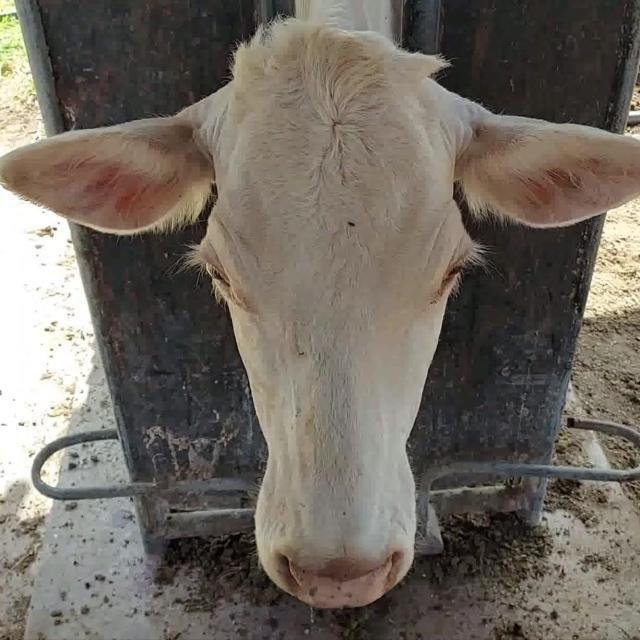cowFace: (202, 31, 470, 605)
